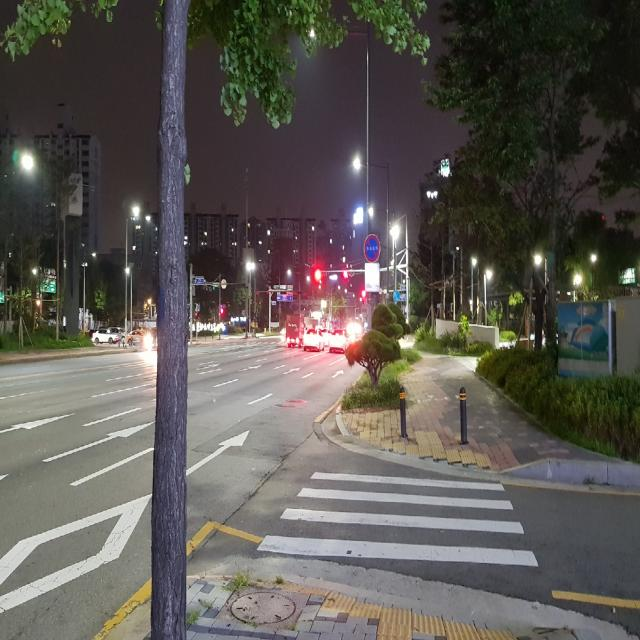횡단보도: (257, 472, 538, 566)
